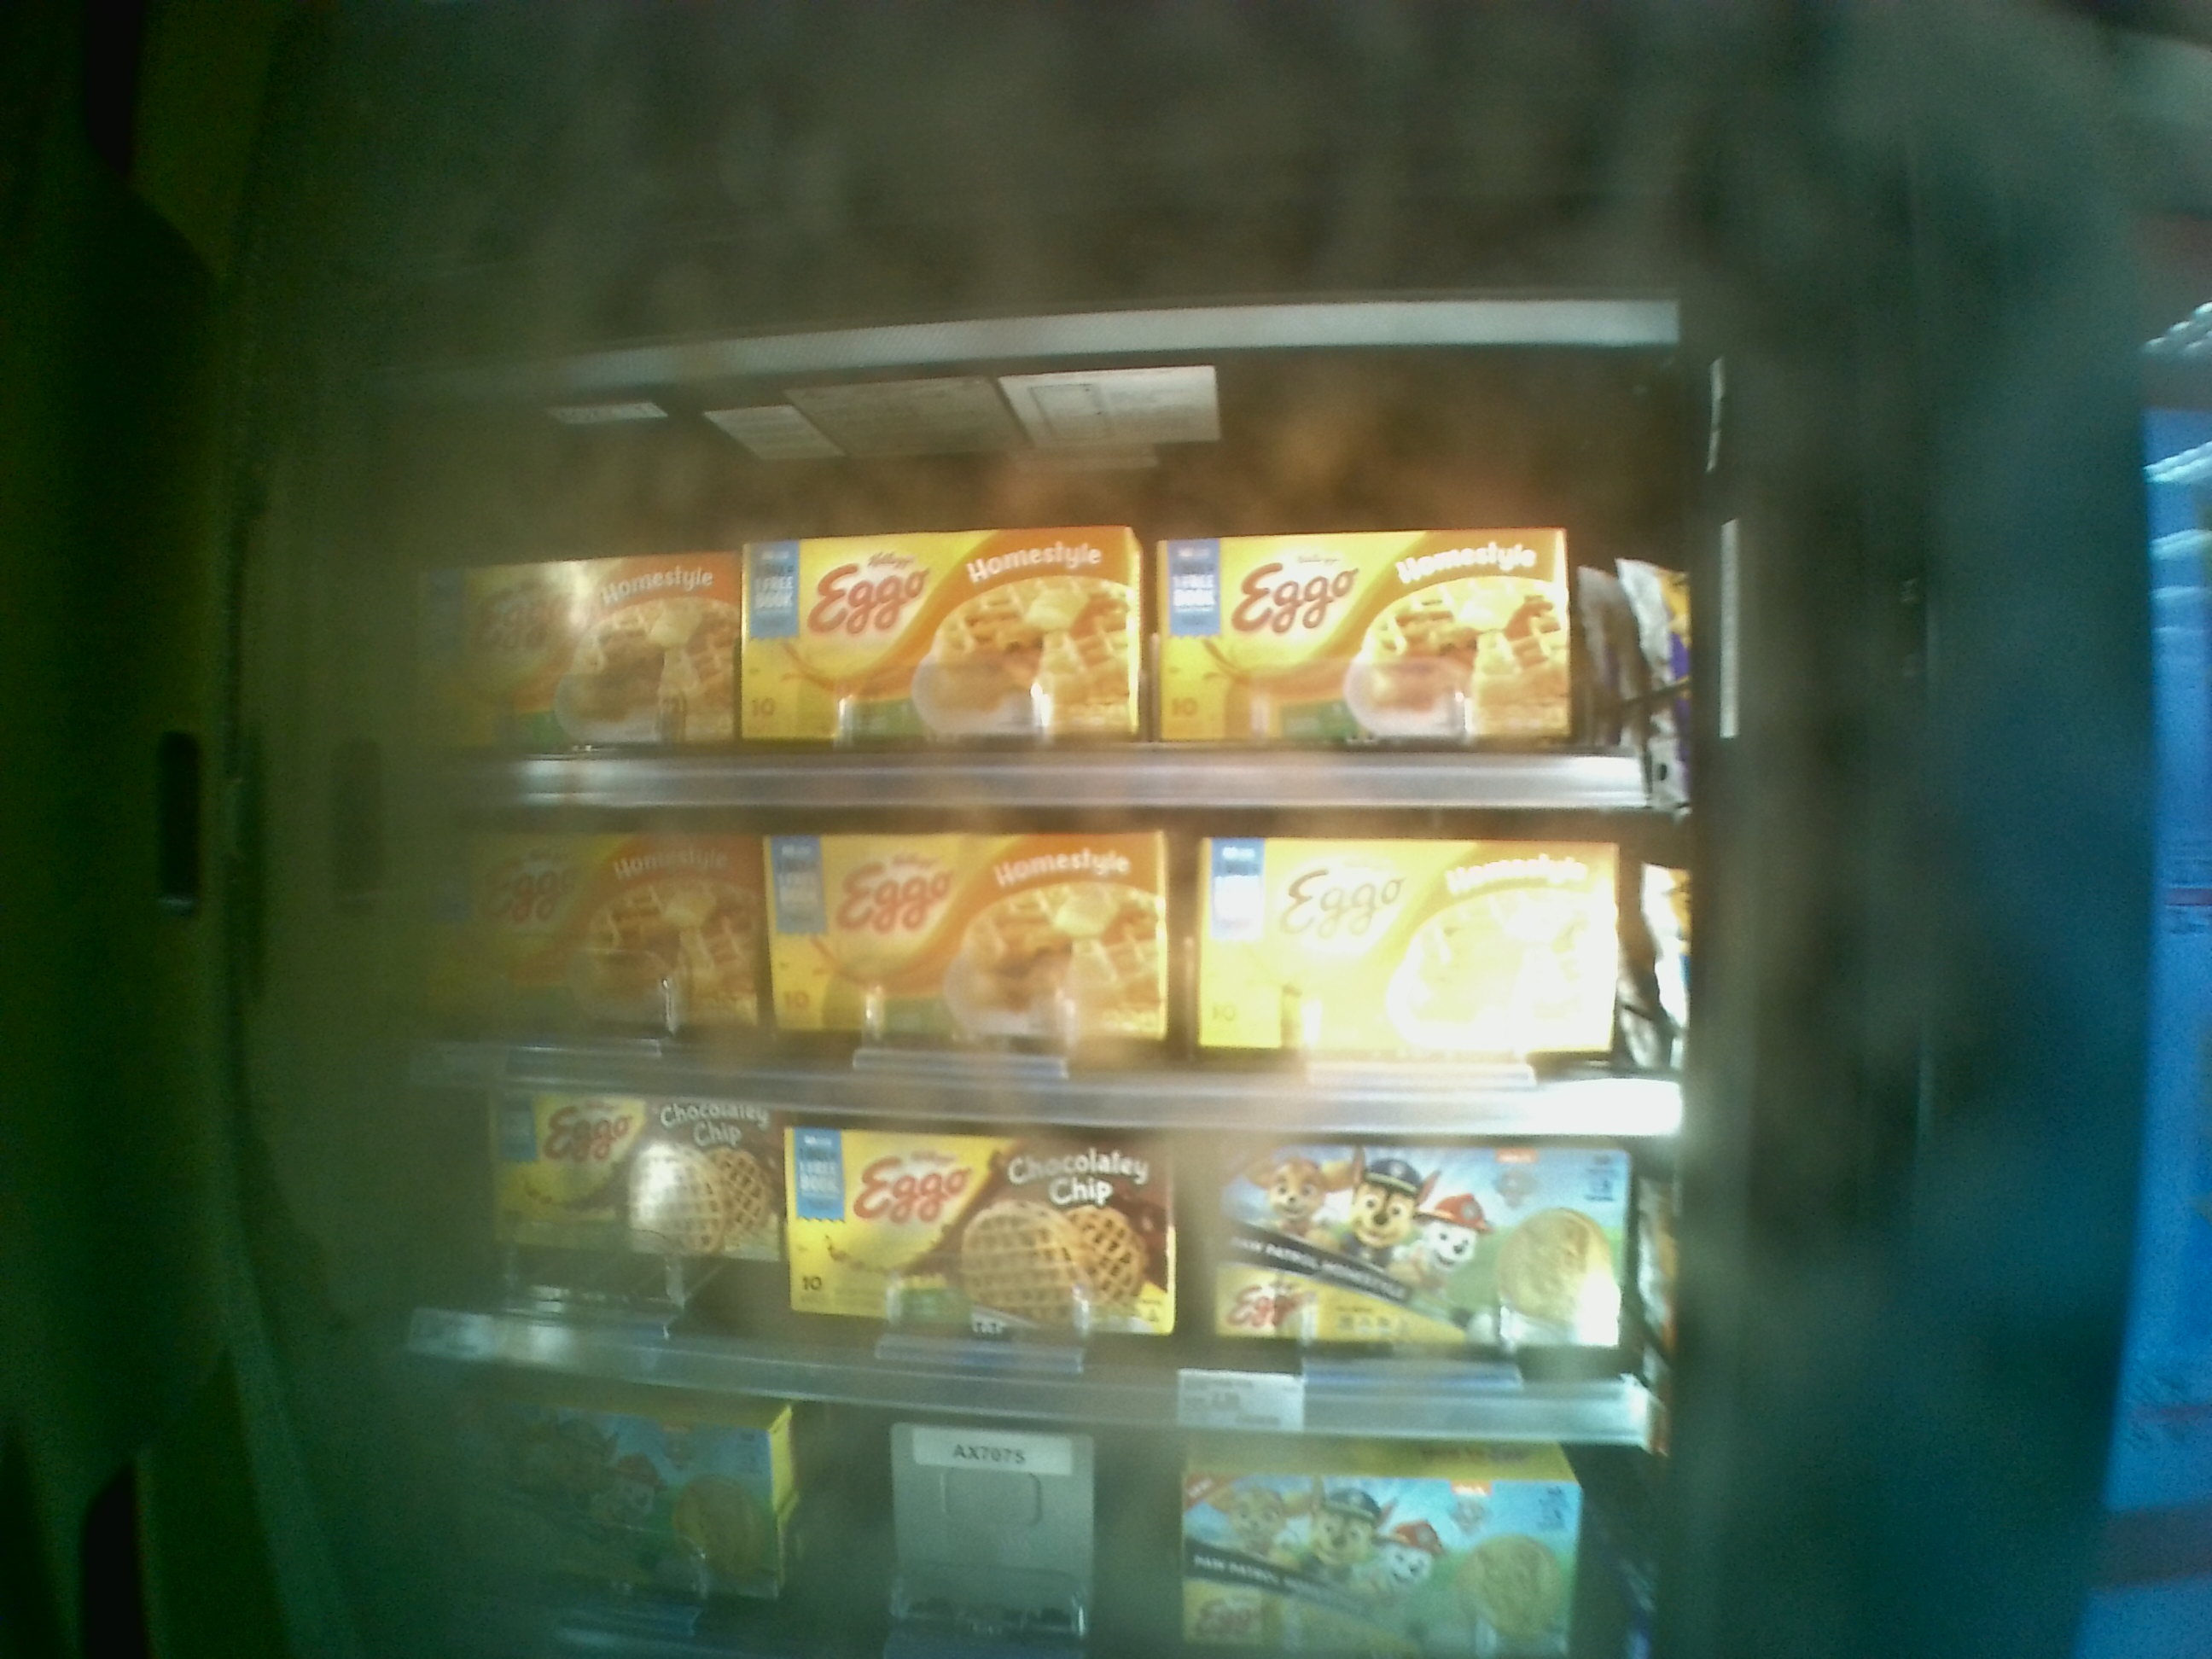shelf: (420, 1087, 1656, 1453), (411, 812, 1686, 1154), (415, 483, 1674, 812)
